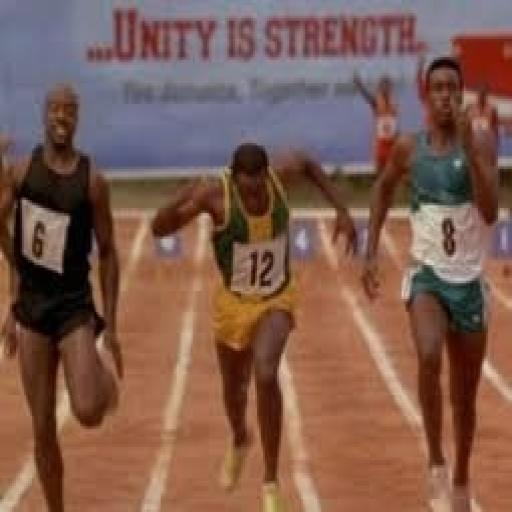running: (148, 138, 362, 509), (357, 52, 504, 509), (0, 78, 129, 509)
